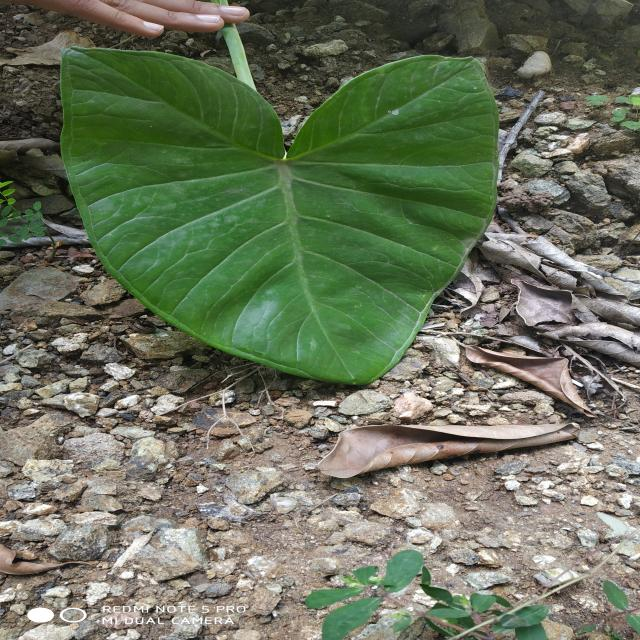taro: (62, 48, 498, 384)
